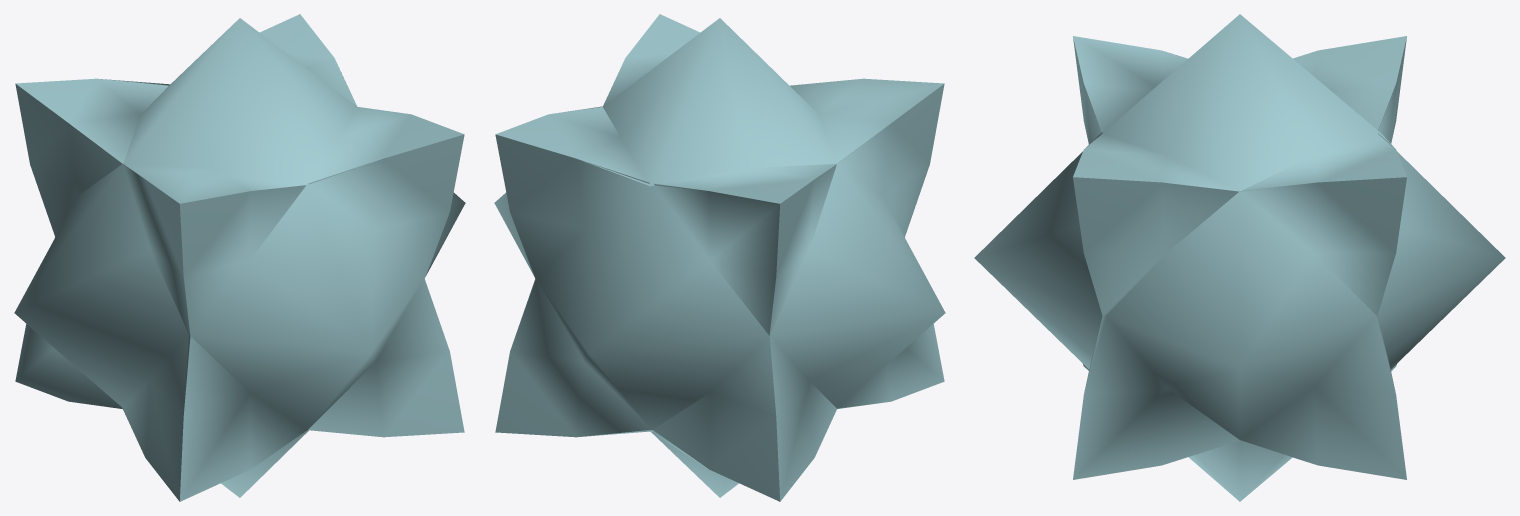
File: Star.fbx
The picture shows the model from 3 angles, left to right: view 1: azimuth 30°, elevation 25°; view 2: azimuth 150°, elevation 25°; view 3: azimuth 270°, elevation 25°; orthographic projection.
Parts seen in each view (by area): view 1: pCube1; view 2: pCube1; view 3: pCube1.
Boxes of the visible parts, x1,y1,x2,y2 form: pCube1: (14,14,465,501); pCube1: (494,14,945,501); pCube1: (974,14,1505,501).
Bounding box in the file's own units: 1.99 × 2.02 × 2.
